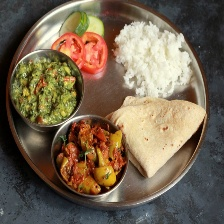rice: (113, 19, 192, 98)
